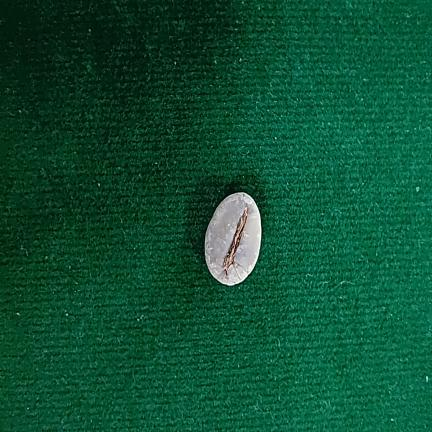husk: (204, 192, 261, 285)
